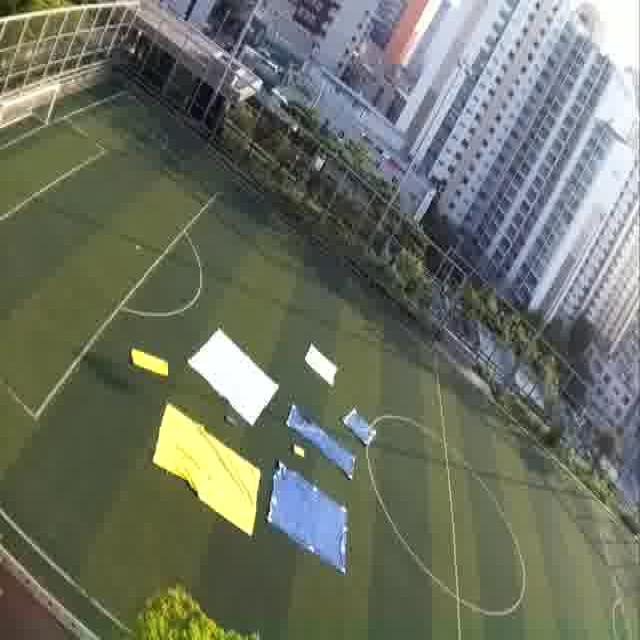danger: (276, 493, 346, 562), (289, 413, 322, 438), (359, 412, 377, 444)
safety: (206, 346, 284, 414), (311, 344, 338, 377)
warning: (164, 442, 264, 533), (127, 344, 172, 381)
